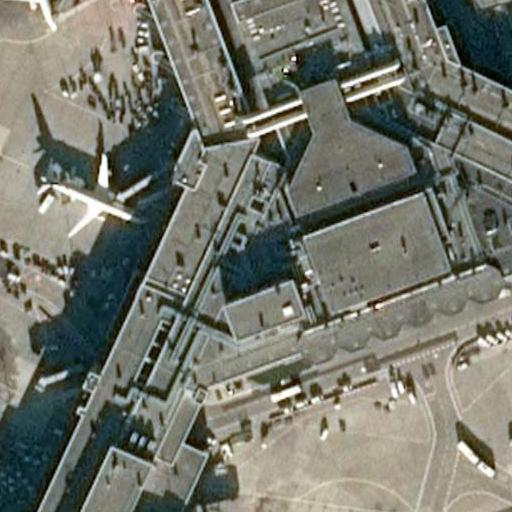Aircraft: (41, 145, 139, 229), (0, 0, 84, 34)
